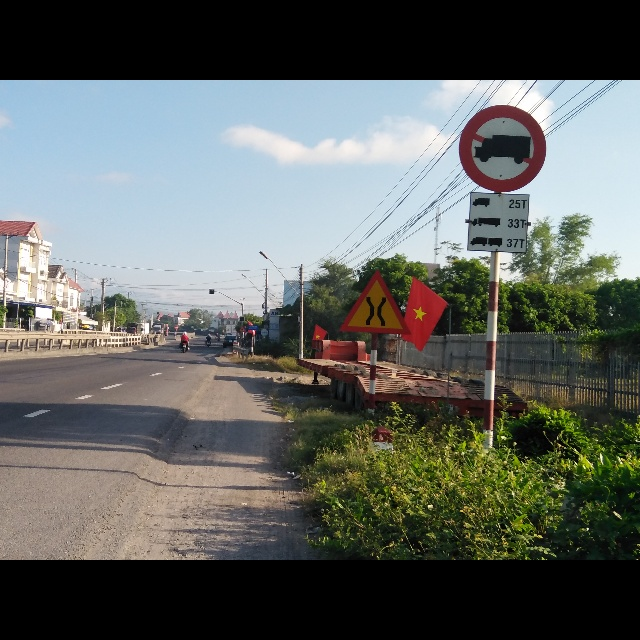Cấm xe tải: (459, 105, 549, 192)
Cầu hẹp: (336, 267, 408, 335)
